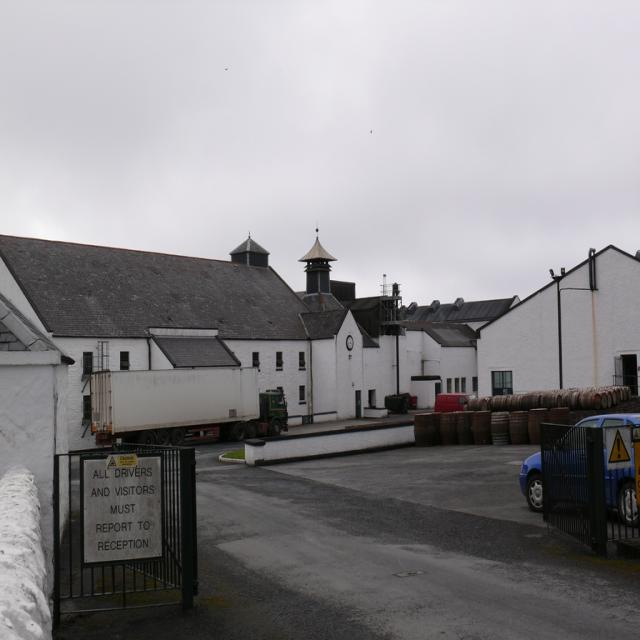car: (523, 404, 636, 558)
